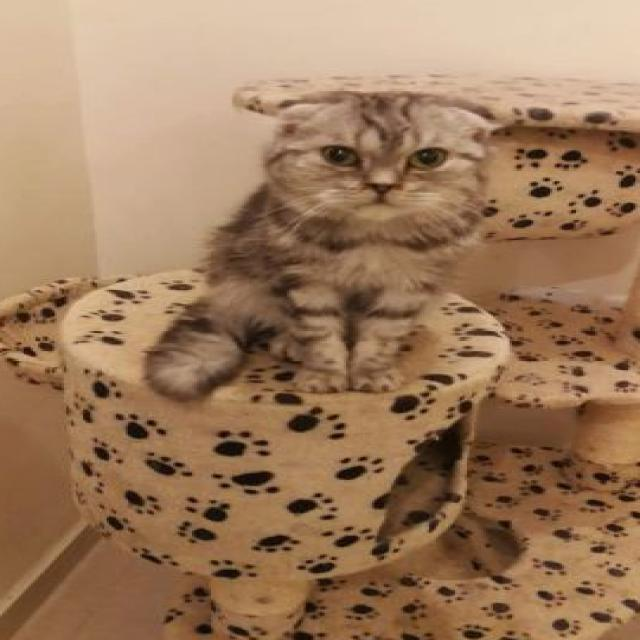Scottish Fold: (133, 85, 510, 405)
